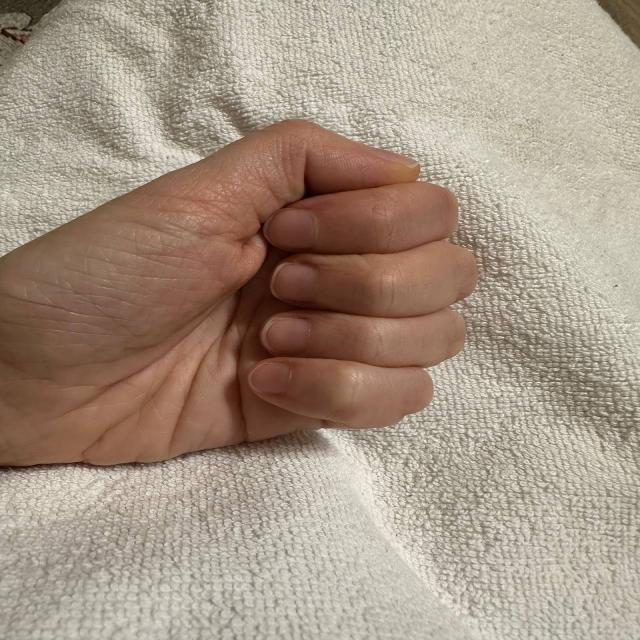a: (33, 109, 464, 468)
